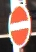No entry: (5, 5, 31, 47)
